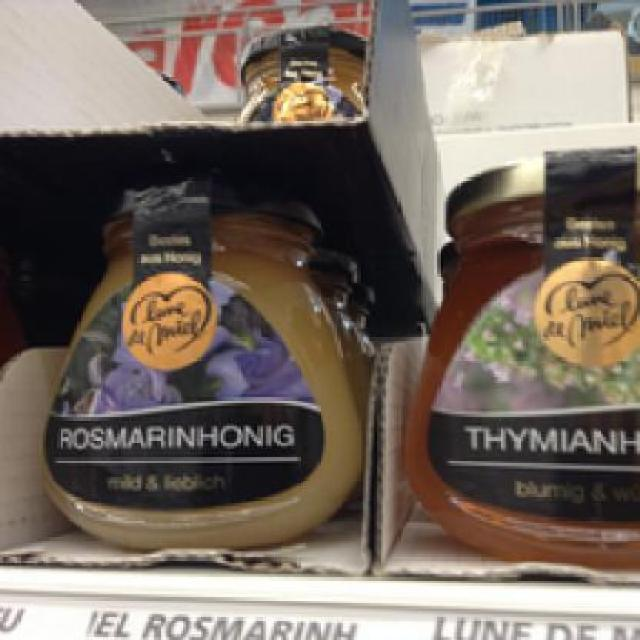Honey: (46, 183, 363, 546), (405, 148, 638, 566)
